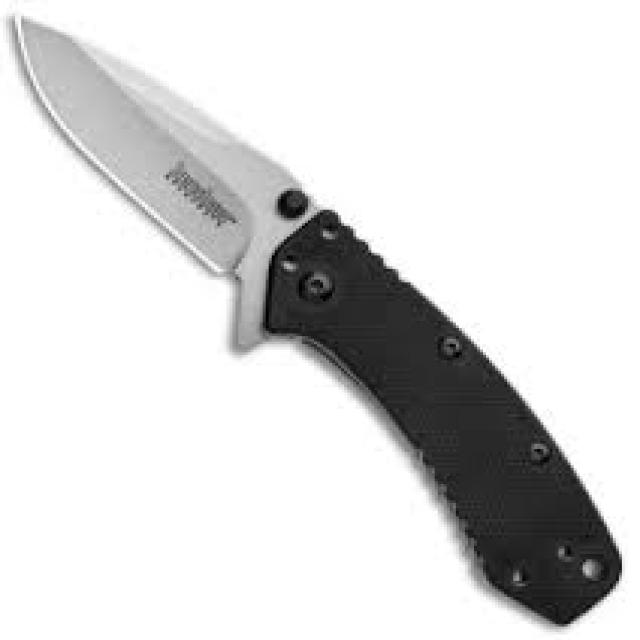knives: (3, 3, 625, 632)
